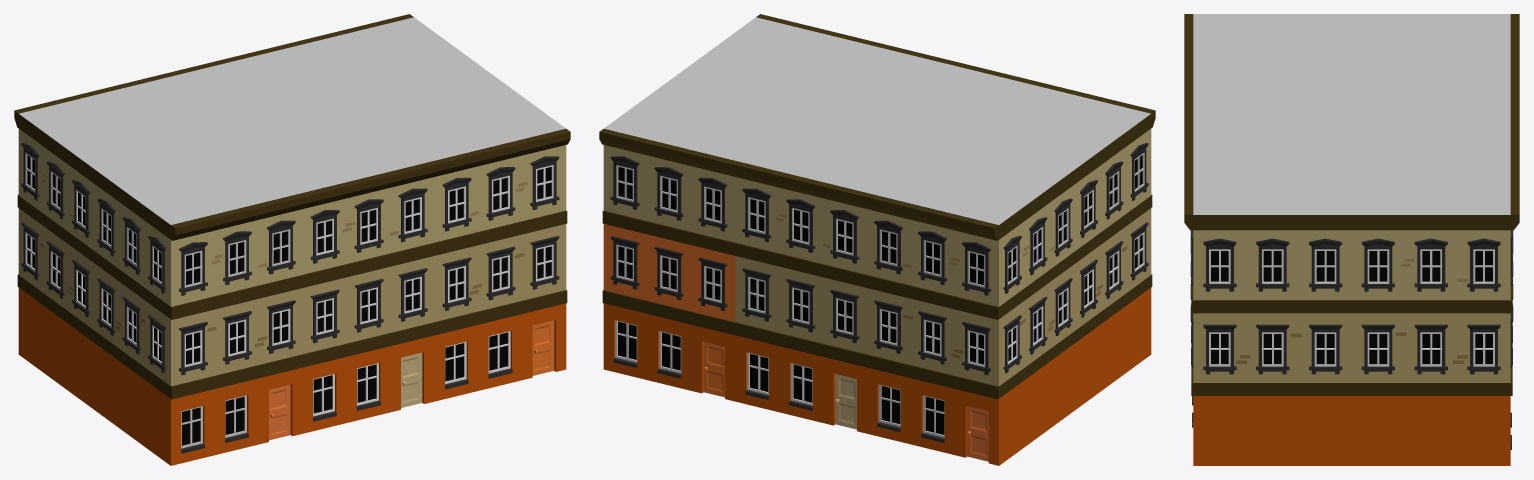
Rendered from Classical-04.fbx.
3 views of the same model, side by side, from view 1: azimuth 30°, elevation 25°; view 2: azimuth 150°, elevation 25°; view 3: azimuth 270°, elevation 25° (orthographic). The views are drawn at different scales.
Visible parts, largest first — view 1: Building; view 2: Building; view 3: Building.
Part boxes in pixels (box(x1,y1,x2,y2)): Building: box(14, 14, 570, 465); Building: box(599, 14, 1155, 465); Building: box(1184, 14, 1519, 465).
Size of what is drawn, in the model's own units: 18.2 by 10.48 by 12.7.
